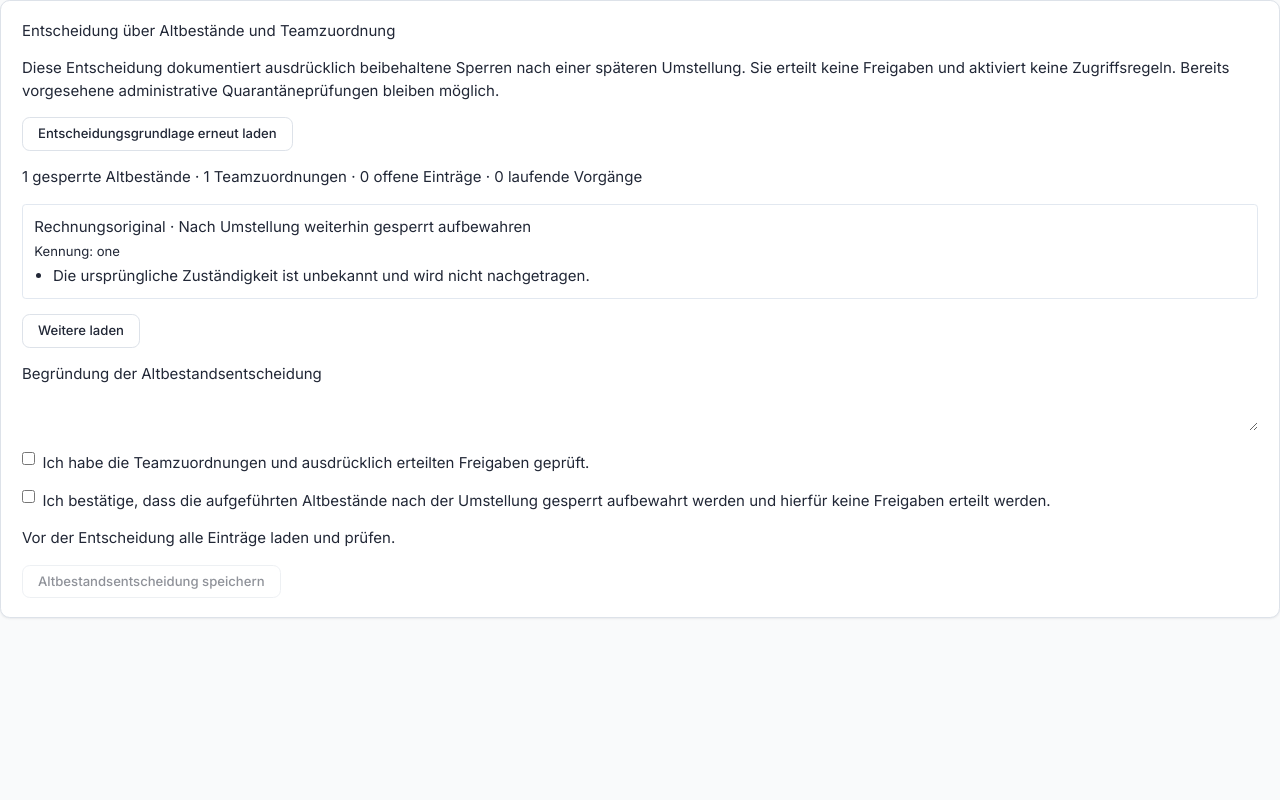
requires both explicit acknowledgments and every page
Check: the heading "Rechnungsoriginal · Nach Umstellung" is shown, box x1=34 y1=217 x2=531 y2=236
Type "Keep restricted legacy source" into the text box labelled "Begründung der Altbestandsentscheidung" at (640, 408), box x1=22 y1=386 x2=1258 y2=430
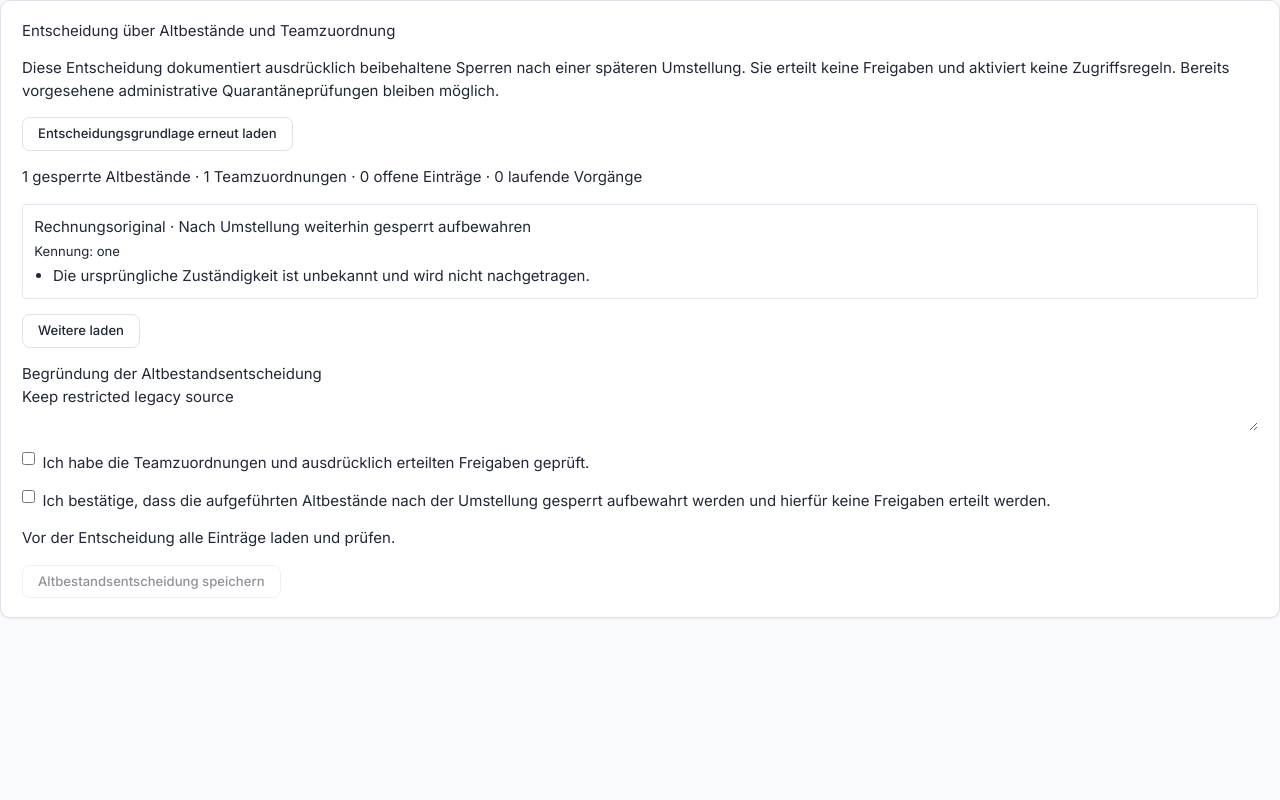
Click the 1st checkbox at (28, 458), box x1=22 y1=452 x2=35 y2=465
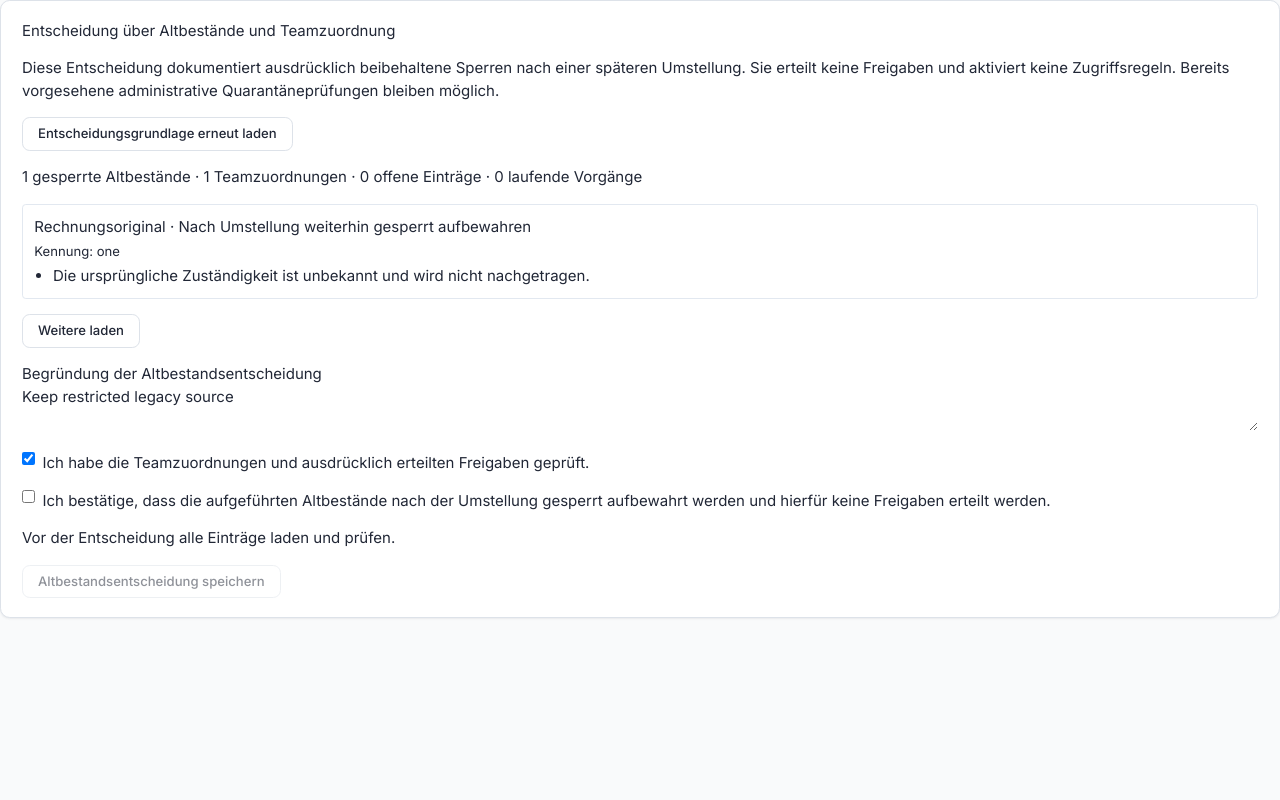
Click the 2nd checkbox at (28, 496), box x1=22 y1=490 x2=35 y2=502
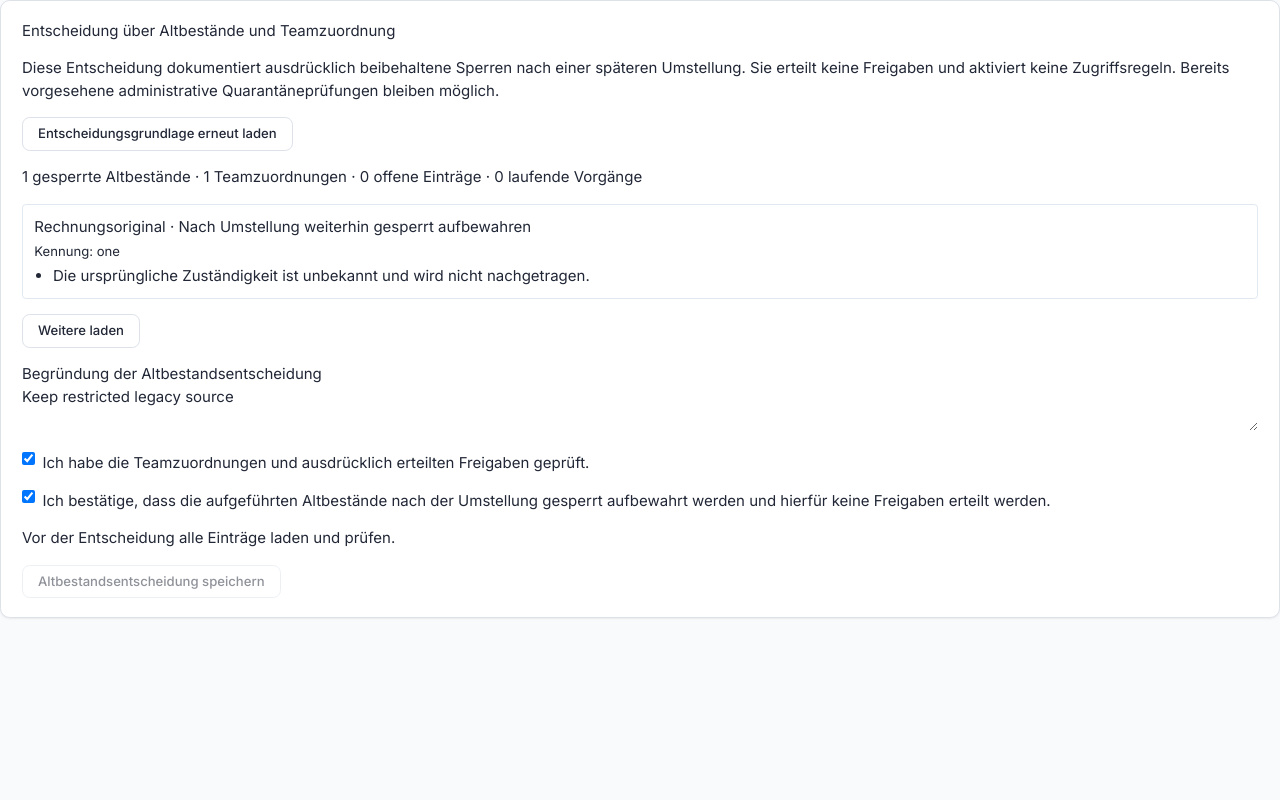
Check: the button "Altbestandsentscheidung speichern" is disabled, box x1=22 y1=564 x2=280 y2=598
Click the button "Weitere laden" at (81, 331), box x1=22 y1=314 x2=140 y2=348
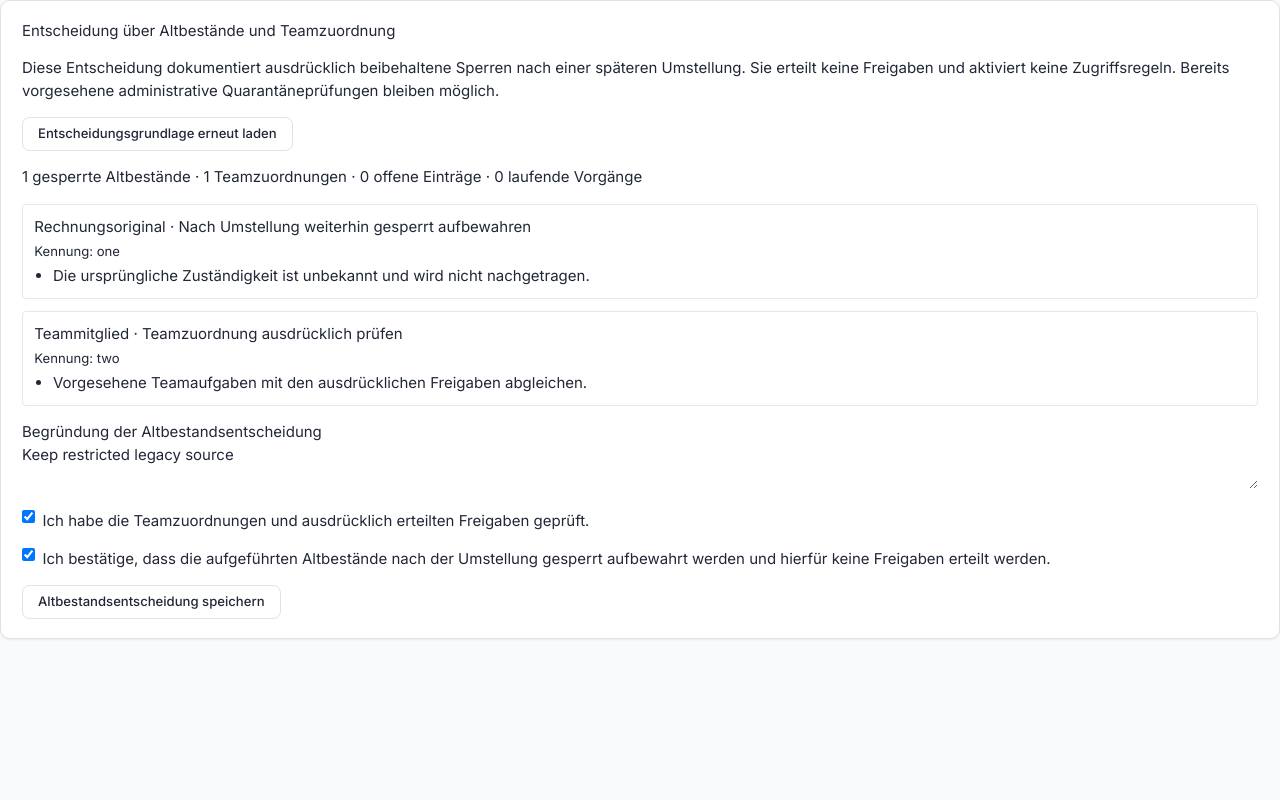
Check: the button "Altbestandsentscheidung speichern" is enabled, box x1=22 y1=585 x2=280 y2=619
Click the 1st checkbox at (28, 517), box x1=22 y1=510 x2=35 y2=523
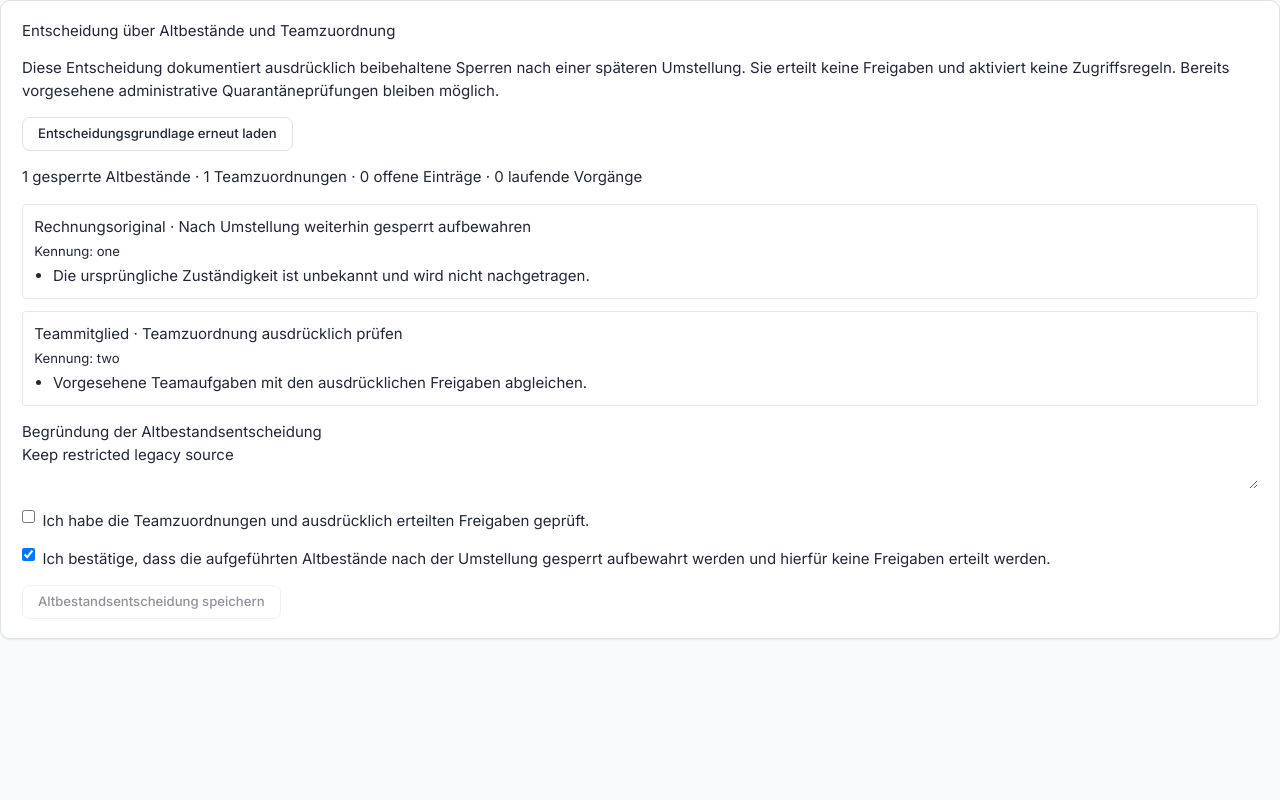
Check: the button "Altbestandsentscheidung speichern" is disabled, box x1=22 y1=585 x2=280 y2=619
